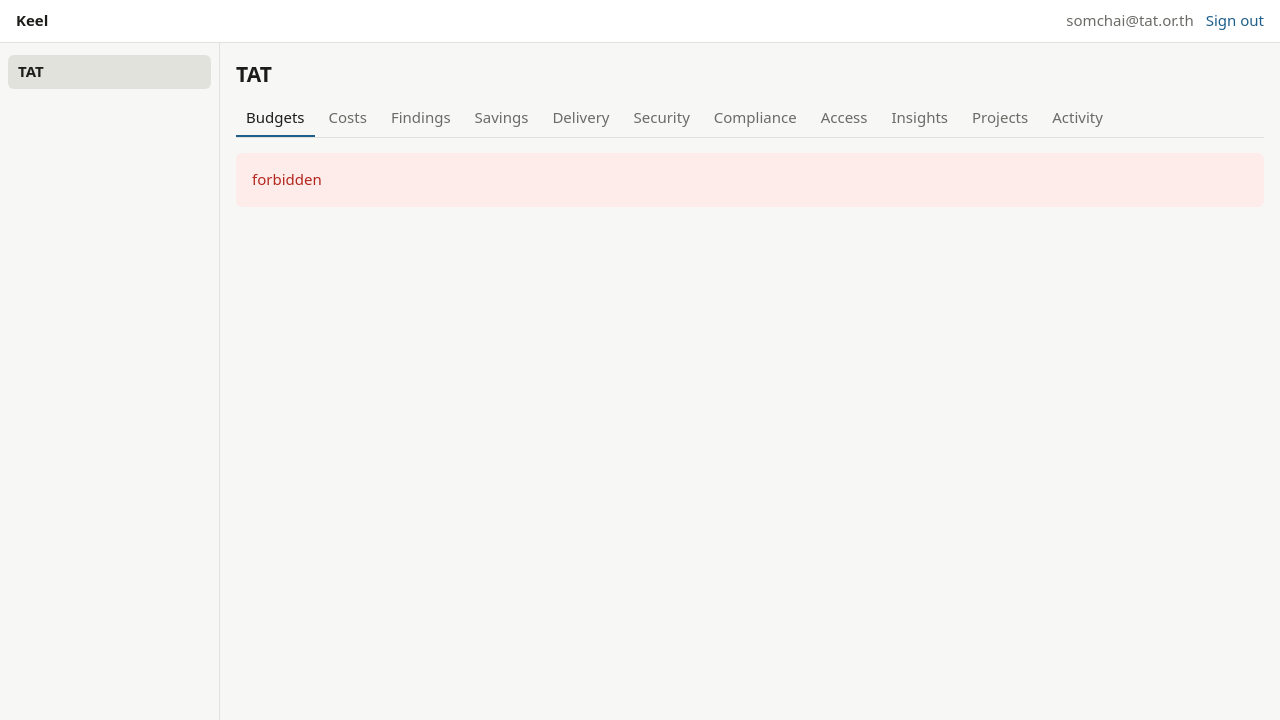
Test: portal › tenant member sees only their own tenant
The image size is (1280, 720).
Click the tab "Projects". click: (1000, 119)
box: [962,101,1038,137]
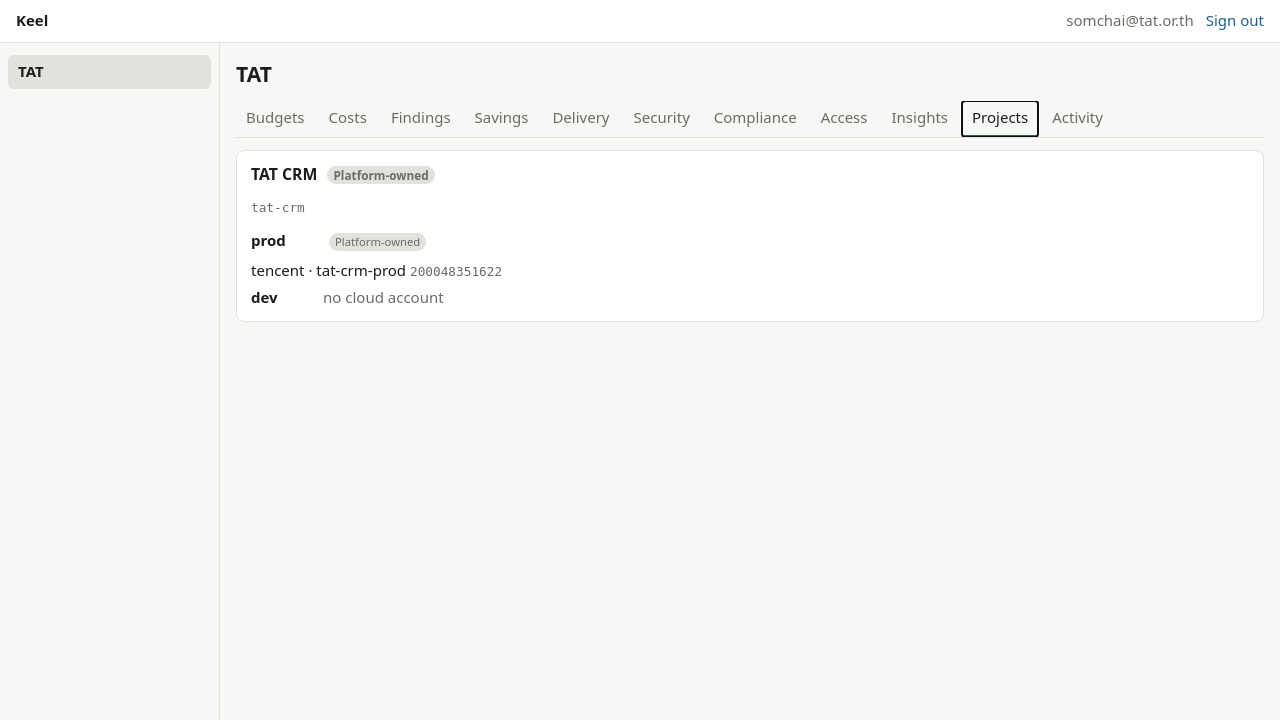
Check: the heading "TAT CRM Platform-owned" is shown, box [251,163,435,185]
